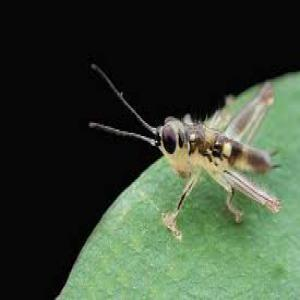locust: (113, 86, 300, 211)
